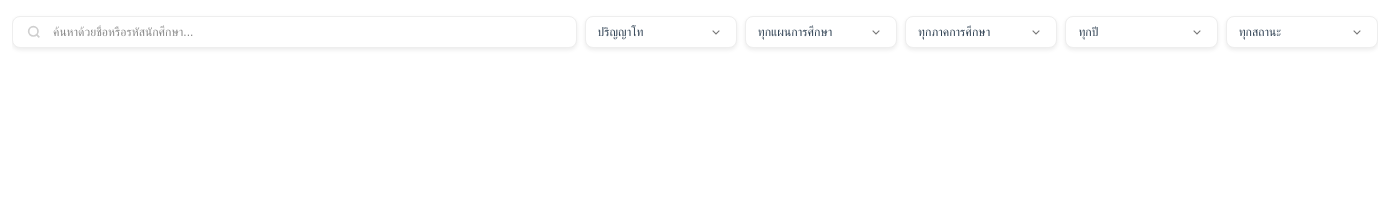
Scenario: StudentFilters › uses the current plan names and only offers plans compatible with the selected degree
What coordinates should you click on to do the following:
click the button "ทุกแผนการศึกษา"
I would click on:
 (821, 32)
Its box is [745, 16, 897, 48].
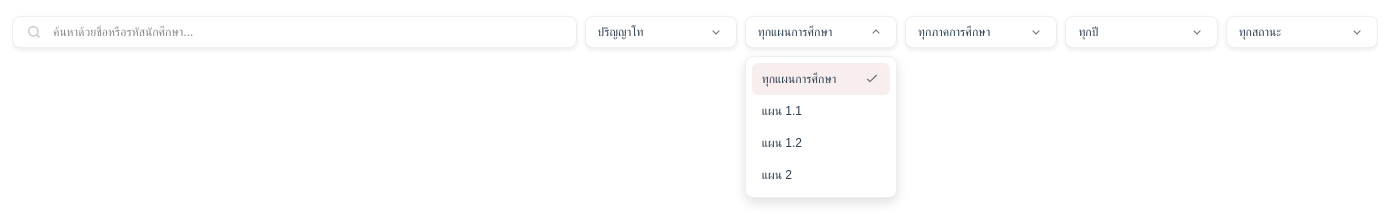
expect the button "แผน 1.1" is shown: met, box [752, 95, 890, 127]
expect the button "แผน 1.2" is shown: met, box [752, 127, 890, 159]
expect the button "แผน 2" is shown: met, box [752, 159, 890, 191]
